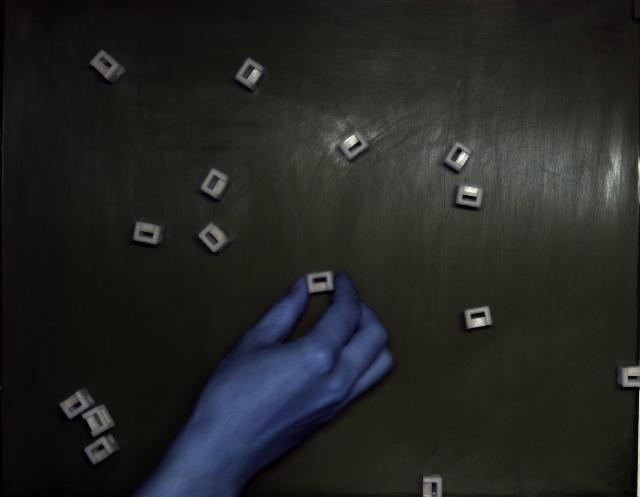fourth_side: (90, 50, 125, 84), (59, 389, 95, 420), (82, 405, 115, 438), (84, 435, 120, 465), (235, 58, 266, 91), (199, 222, 232, 253), (200, 169, 232, 200), (339, 131, 369, 160), (444, 141, 472, 172), (132, 221, 165, 245), (464, 306, 492, 330), (456, 185, 484, 208)
